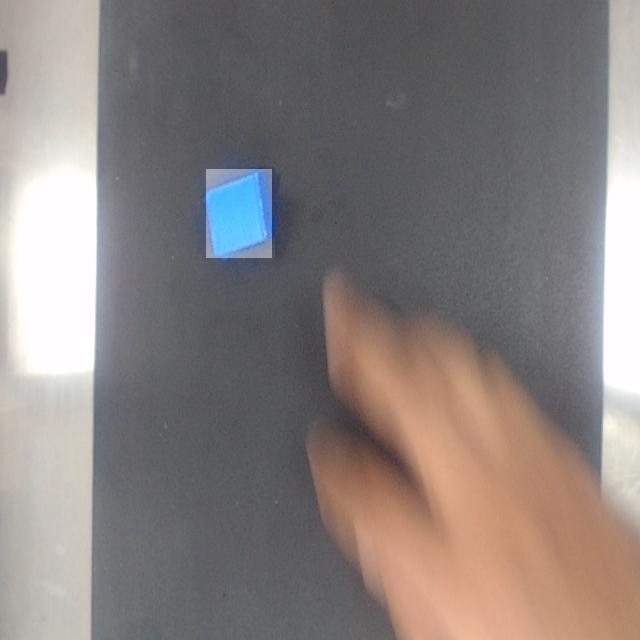Azul: (206, 170, 272, 258)
